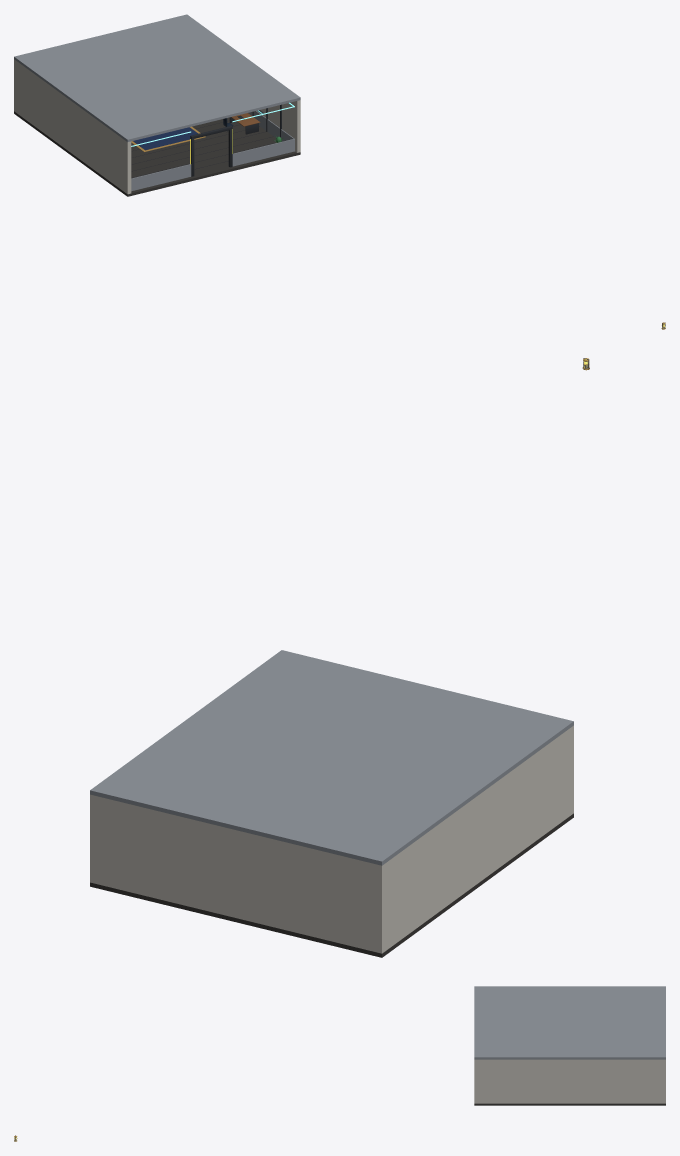
Rendered from cabin.glb.
The picture shows the model from 3 angles, top to bottom: view 1: azimuth 30°, elevation 25°; view 2: azimuth 150°, elevation 25°; view 3: azimuth 270°, elevation 25°; orthographic projection. The views are drawn at different scales.
Parts seen in each view (by area): view 1: CabinRoom; view 2: CabinRoom; view 3: CabinRoom.
Boxes of the visible parts, left/top/right/bottom form: CabinRoom: left=14, top=14, right=300, bottom=196; CabinRoom: left=90, top=650, right=573, bottom=957; CabinRoom: left=474, top=986, right=665, bottom=1105.
Size of the model in its own units: 22.46 by 4.6 by 56.44.
